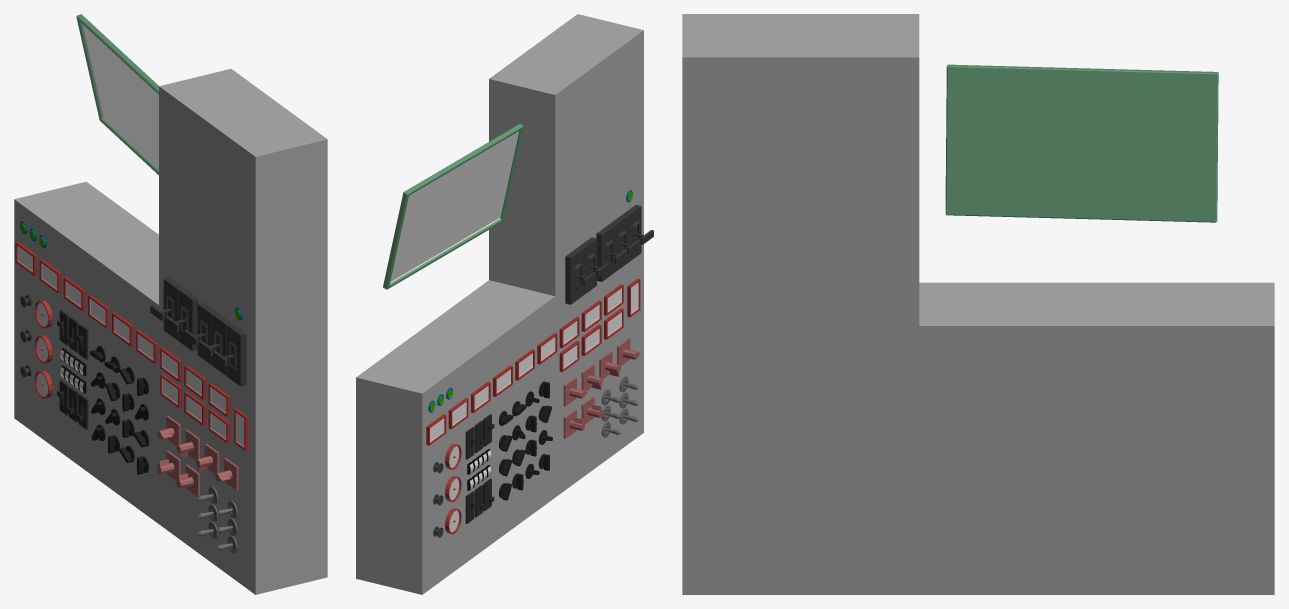
Rendered from console_04.fbx.
The picture shows the model from 3 angles, left to right: view 1: azimuth 30°, elevation 25°; view 2: azimuth 150°, elevation 25°; view 3: azimuth 270°, elevation 25°; orthographic projection. The views are drawn at different scales.
Visible parts, largest first — view 1: pCube1, display_03:pCube1, pCube36, pCube33, lever_01:pCube1, pCube35, pCube34, pCube10, pCube2, pCube11, pCube9, pCube3 (+17 smaller); view 2: pCube1, display_03:pCube1, lever_01:pCube1, pCube34, pCube35, pCube36, pCube33, pCube10, display_01:pCube1, pCube8, pCube2, pCube6 (+12 smaller); view 3: pCube1, display_03:pCube1.
Part boxes in pixels (bbox=[...]): pCube1: bbox=[14, 69, 327, 594]; display_03:pCube1: bbox=[76, 14, 158, 174]; pCube36: bbox=[213, 323, 246, 386]; pCube33: bbox=[164, 288, 198, 351]; lever_01:pCube1: bbox=[150, 277, 183, 340]; pCube35: bbox=[198, 313, 231, 375]; pCube34: bbox=[184, 302, 217, 365]; pCube10: bbox=[234, 409, 248, 450]; pCube2: bbox=[39, 259, 61, 293]; pCube11: bbox=[208, 409, 230, 443]; pCube9: bbox=[208, 383, 230, 417]; pCube3: bbox=[63, 277, 85, 310]; pCube1: bbox=[356, 14, 643, 594]; display_03:pCube1: bbox=[383, 124, 523, 289]; lever_01:pCube1: bbox=[565, 247, 596, 304]; pCube34: bbox=[596, 224, 627, 281]; pCube35: bbox=[610, 214, 640, 271]; pCube36: bbox=[623, 204, 653, 262]; pCube33: bbox=[579, 237, 609, 294]; pCube10: bbox=[627, 278, 640, 317]; display_01:pCube1: bbox=[426, 414, 446, 445]; pCube8: bbox=[581, 300, 601, 331]; pCube2: bbox=[448, 398, 468, 429]; pCube6: bbox=[537, 333, 557, 364]; pCube1: bbox=[682, 14, 1274, 594]; display_03:pCube1: bbox=[945, 64, 1218, 222].
Bounding box in the file's own units: 111 × 500 × 500.
